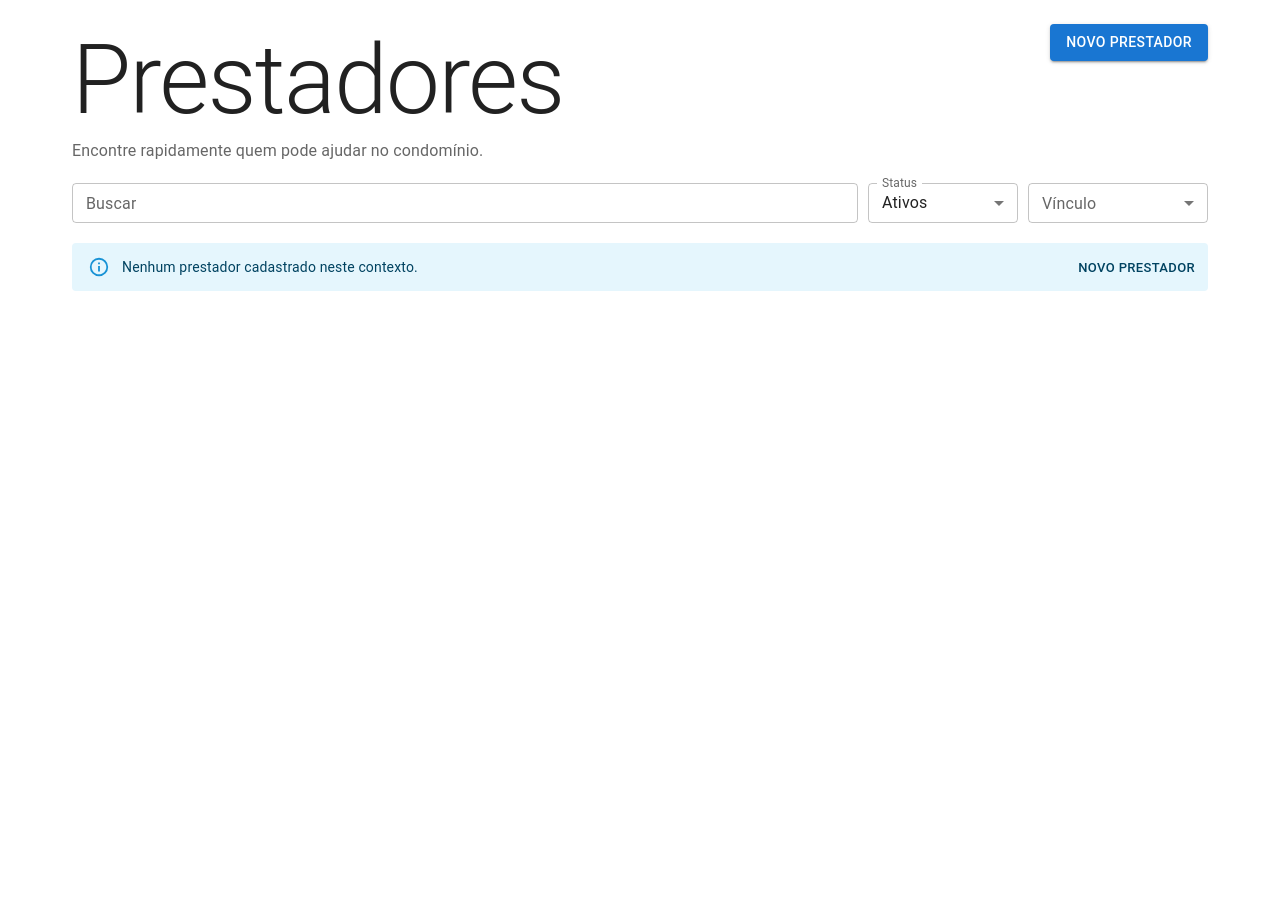
Scenario: ServiceProvidersPage WhatsApp action › explains availability, supports specialty tags, and does not show Contact
Click the button "Novo prestador" in the row of "Prestadores".
click(1129, 42)  # box [1050, 24, 1208, 60]
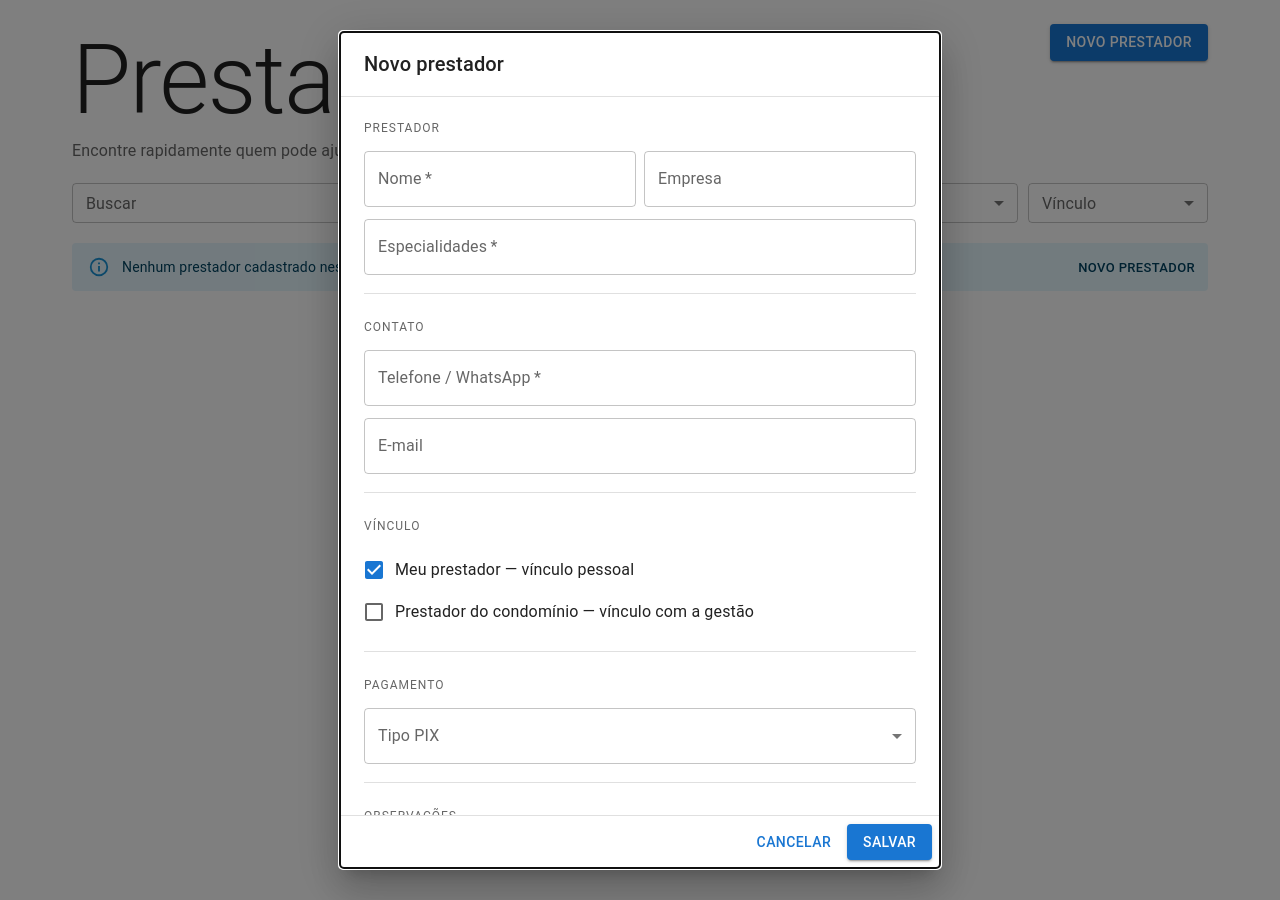
Now the text "Vínculo" is shown, box [364, 519, 420, 533]
Now the checkbox labelled "Meu prestador — vínculo pessoal" is shown, box [362, 558, 634, 582]
Now the checkbox labelled "Prestador do condomínio — vínculo com a gestão" is shown, box [362, 600, 754, 624]
Type "Hidráulica" into the dropdown labelled "Especialidades".
click(640, 247); type("Hidráulica")  # box [373, 228, 907, 266]
Then press Enter
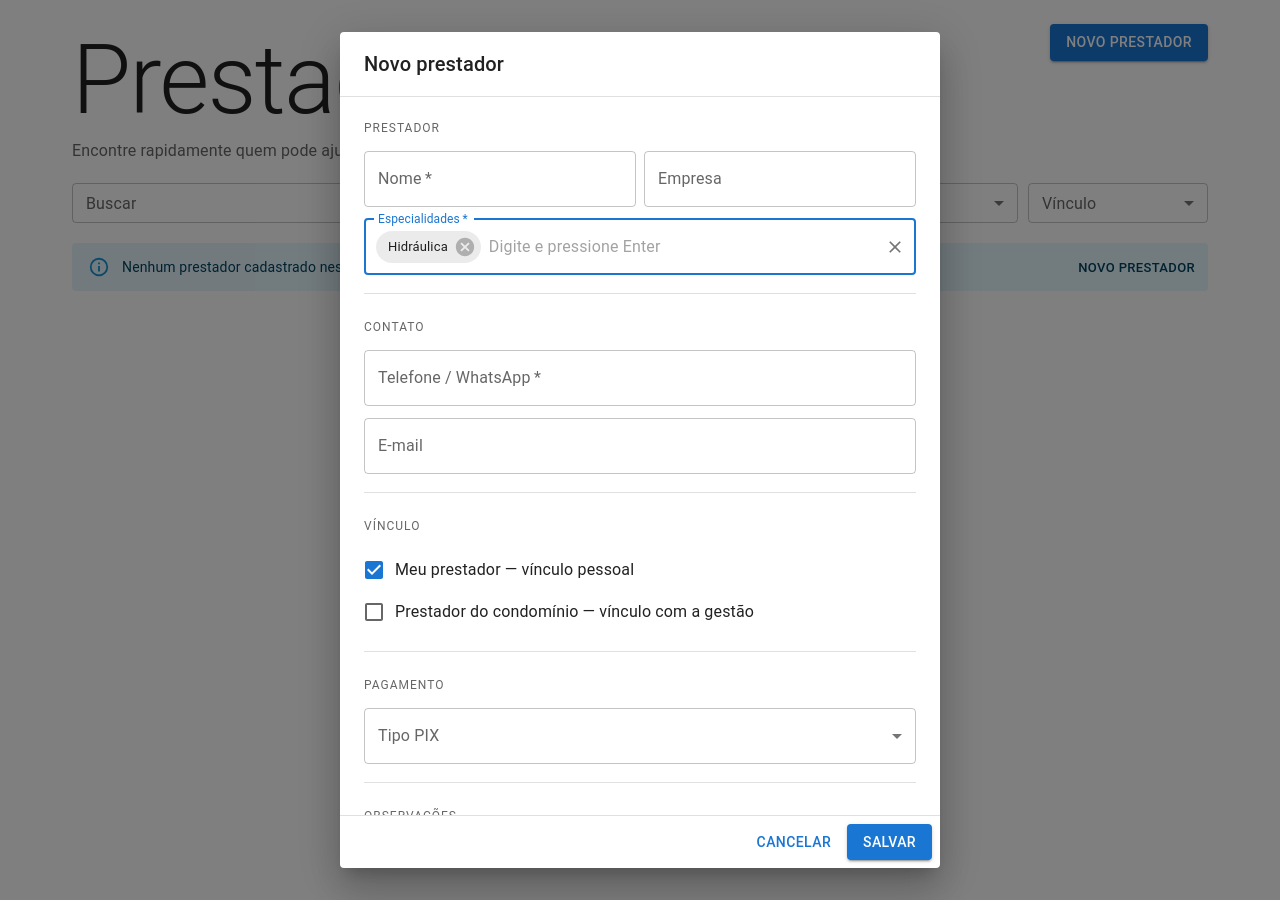
Now the text "Hidráulica" is shown, box [388, 239, 448, 254]
